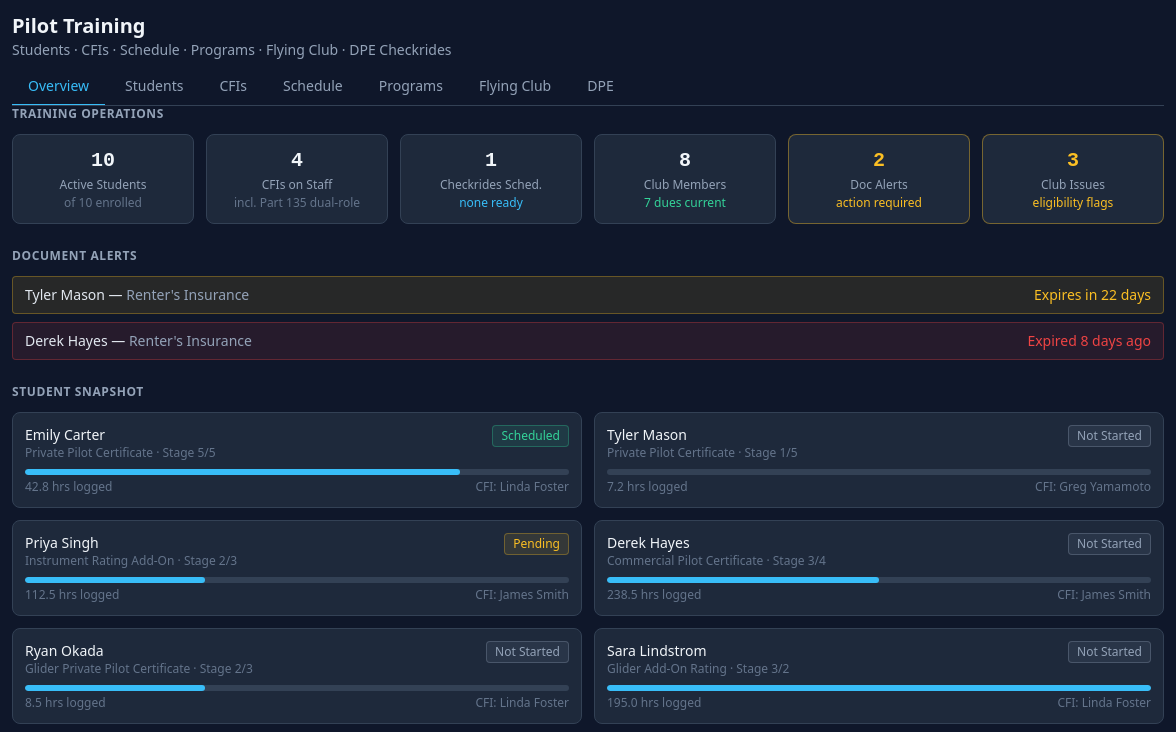
Test: Training component › clicking DPE tab shows scheduling checklist
Click the button "DPE".
click(600, 87)  # box [571,68,630,106]
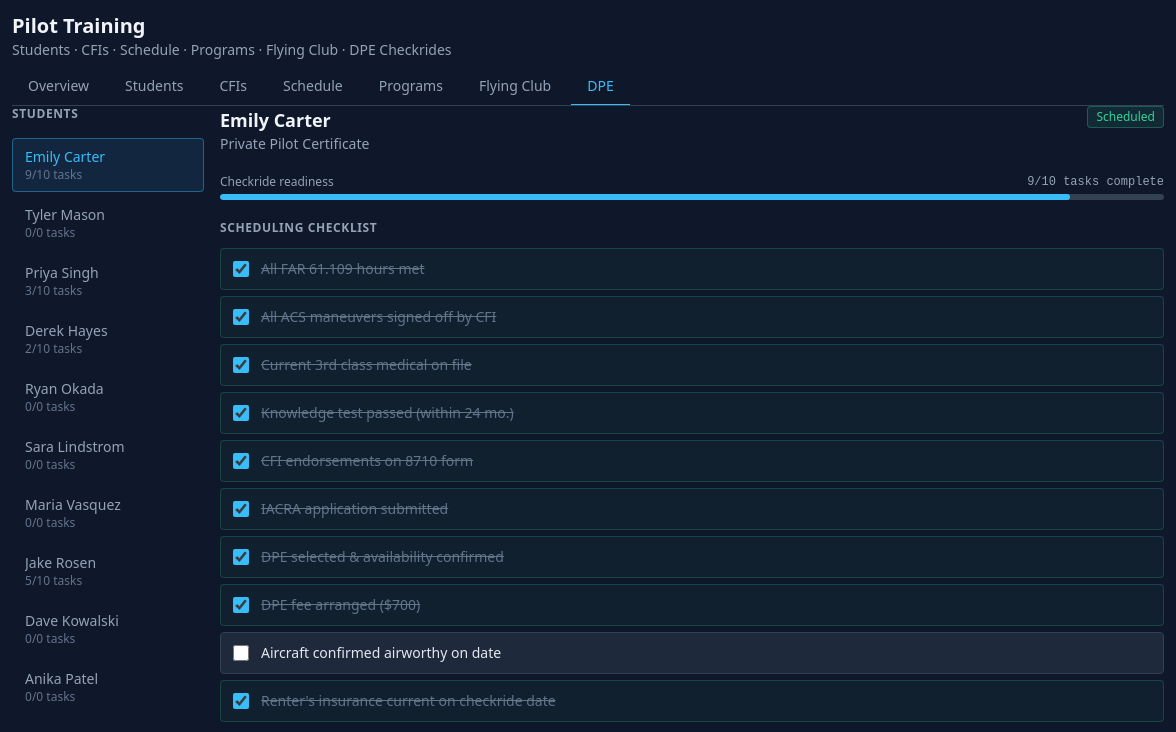
Expected: the heading "Scheduling Checklist" is shown, [220,219,377,236]
